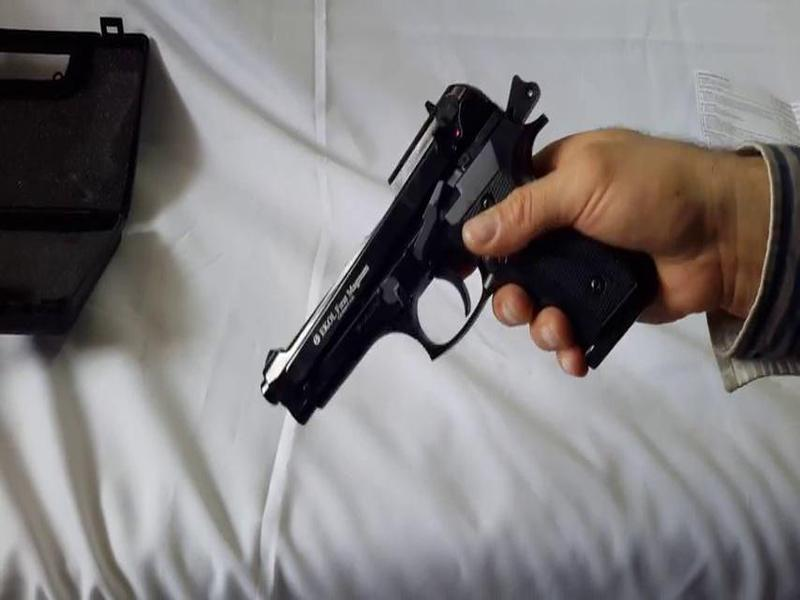Pistola: (196, 90, 641, 404)
